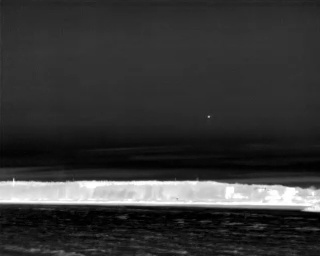HELICOPTER: (205, 112, 213, 122)
